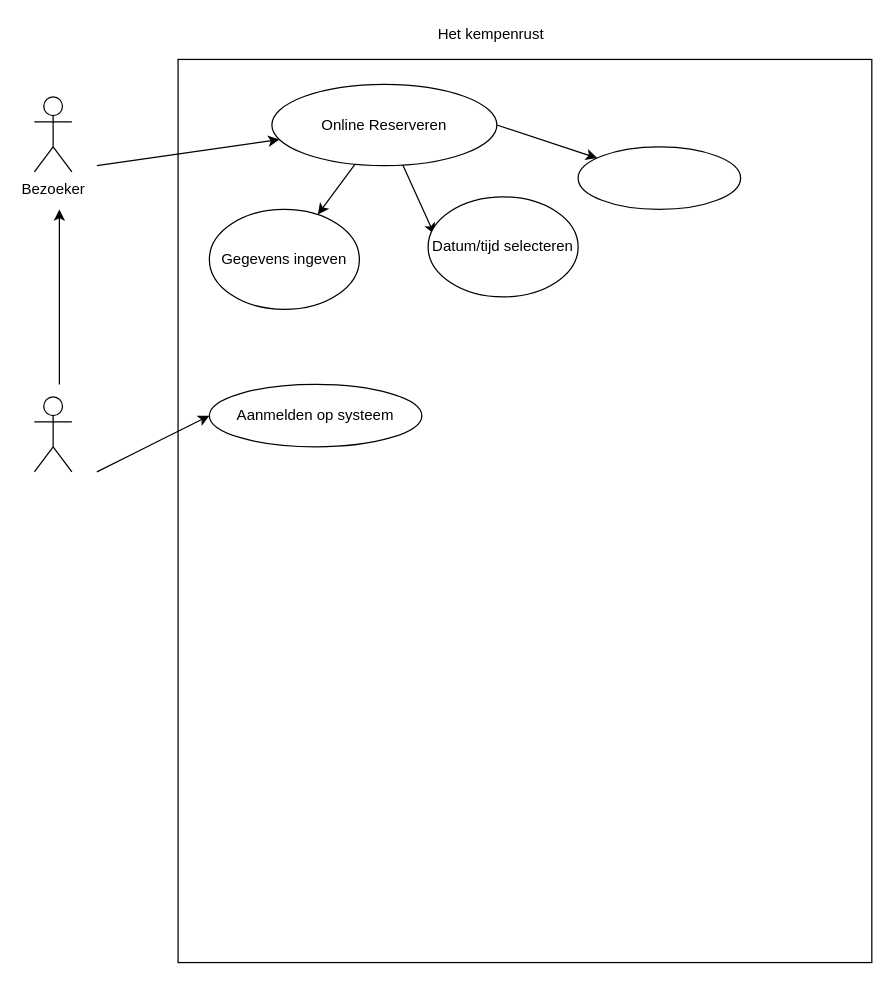
This 894x985 diagram has some shape labels left out. Each missing label, with the box of its shape:
Admin: (33, 396, 72, 472)
Extra opmerking: (577, 146, 741, 209)
